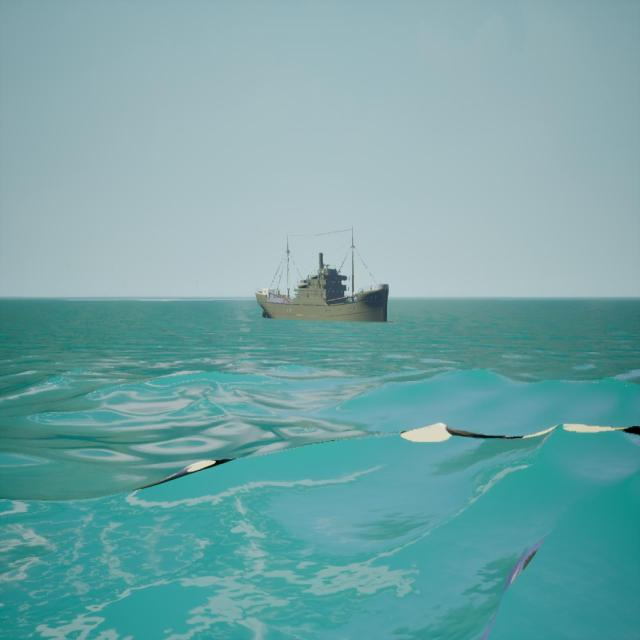fishing ship: (255, 230, 391, 325)
